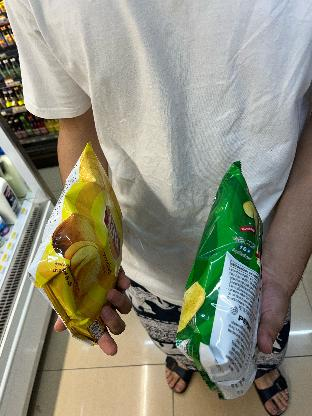Plastic Packaging: (177, 153, 281, 399), (20, 146, 128, 346)
